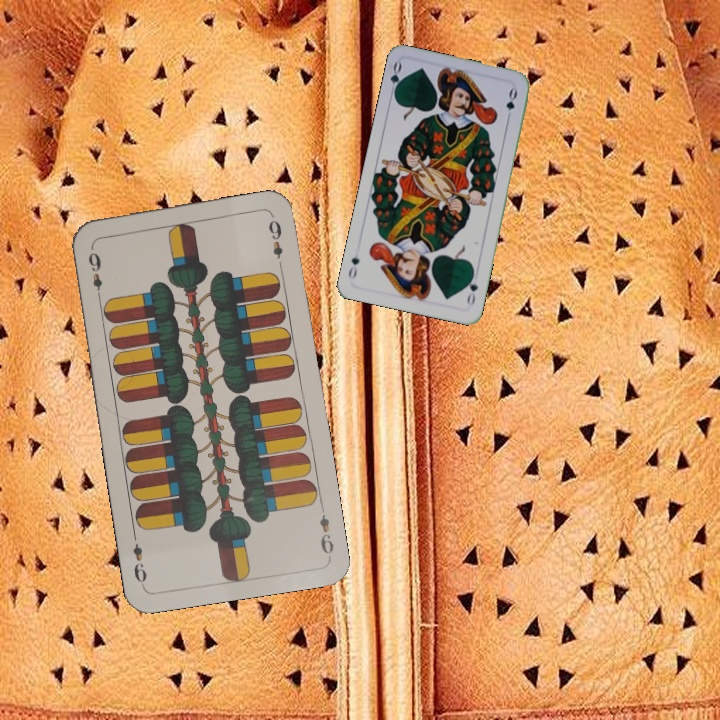E9: (315, 500, 336, 557), (84, 248, 105, 301)
GO: (386, 58, 406, 99), (463, 268, 481, 308)
